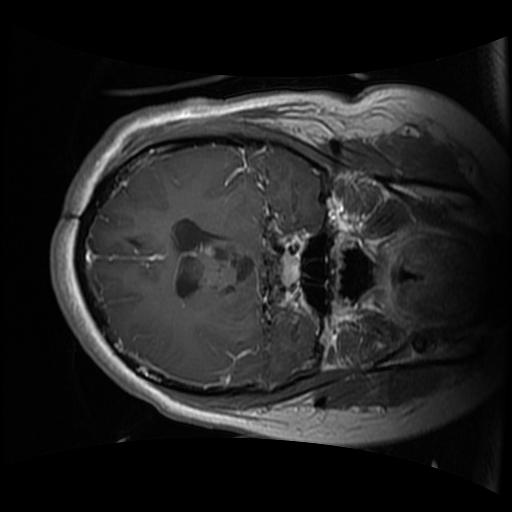glioma: (169, 214, 263, 313)
